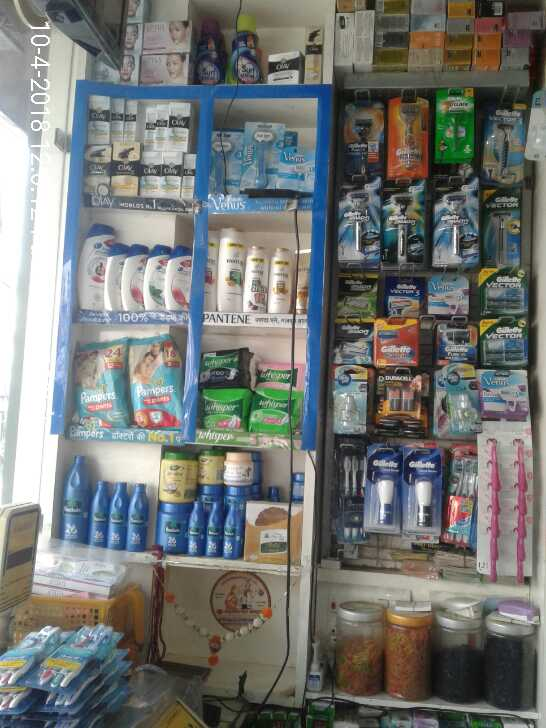gillete: (335, 177, 382, 269), (434, 176, 479, 267), (382, 179, 425, 268), (403, 448, 443, 536), (387, 96, 429, 179), (484, 105, 524, 187), (364, 445, 403, 529), (342, 101, 384, 177), (483, 187, 522, 268), (435, 89, 474, 161), (480, 269, 529, 316), (481, 319, 530, 366), (374, 318, 419, 369), (330, 318, 374, 365), (432, 322, 478, 366), (337, 271, 379, 317), (384, 274, 422, 317)
venus: (479, 369, 529, 418), (244, 122, 278, 191), (209, 130, 244, 195), (427, 272, 469, 315), (279, 147, 315, 192)
